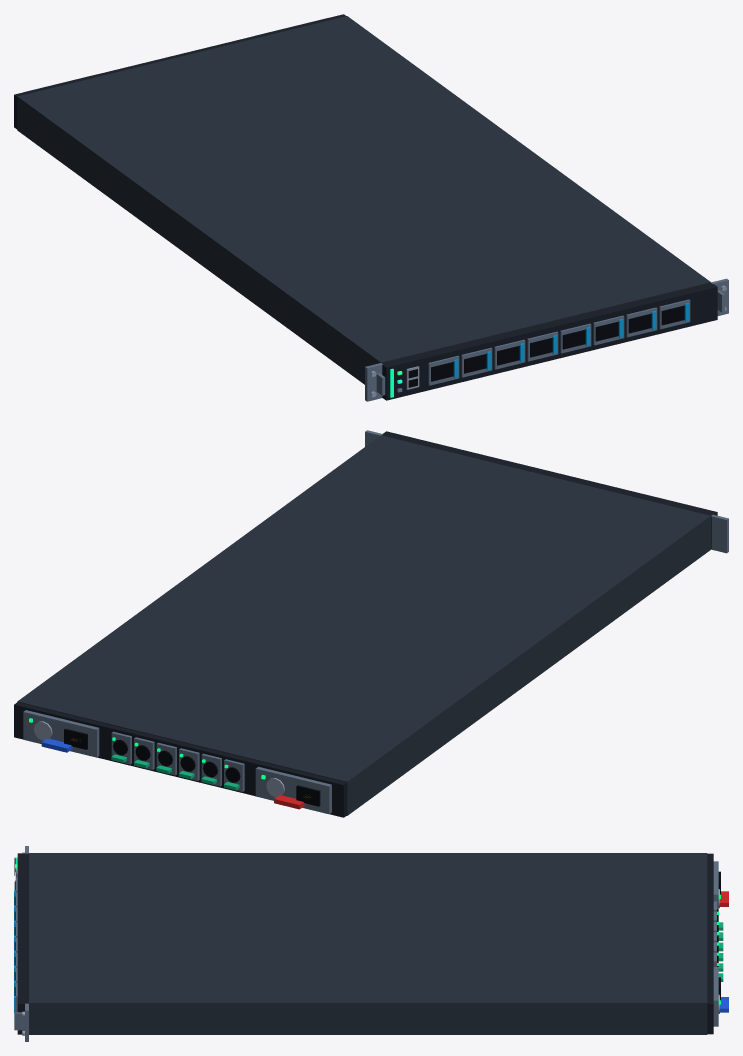
Rendered from generic_server_1u.glb.
3 renders of one model, top to bottom at view 1: azimuth 30°, elevation 25°; view 2: azimuth 150°, elevation 25°; view 3: azimuth 270°, elevation 25°, orthographic. The views are drawn at different scales.
Visible parts, largest first — view 1: BATCH_MAT_CHASSIS_BODY, BATCH_MAT_FACEPLATE, BATCH_MAT_RACK_EAR, BATCH_MAT_CAVITY_DARK, BATCH_MAT_NVME_LATCH; view 2: BATCH_MAT_CHASSIS_BODY, BATCH_MAT_FACEPLATE, BATCH_MAT_RACK_EAR, BATCH_MAT_CAVITY_DARK; view 3: BATCH_MAT_CHASSIS_BODY, BATCH_MAT_FACEPLATE, BATCH_MAT_RACK_EAR, BATCH_MAT_CAVITY_DARK.
Boxes of the visible parts, bbox=[...] form: BATCH_MAT_CHASSIS_BODY: bbox=[17, 16, 710, 384]; BATCH_MAT_FACEPLATE: bbox=[14, 14, 717, 400]; BATCH_MAT_RACK_EAR: bbox=[25, 17, 728, 401]; BATCH_MAT_CAVITY_DARK: bbox=[408, 305, 684, 387]; BATCH_MAT_NVME_LATCH: bbox=[453, 303, 689, 377]; BATCH_MAT_CHASSIS_BODY: bbox=[17, 435, 710, 815]; BATCH_MAT_FACEPLATE: bbox=[14, 431, 717, 817]; BATCH_MAT_RACK_EAR: bbox=[23, 430, 728, 814]; BATCH_MAT_CAVITY_DARK: bbox=[64, 728, 320, 806]; BATCH_MAT_CHASSIS_BODY: bbox=[29, 853, 707, 1034]; BATCH_MAT_FACEPLATE: bbox=[17, 853, 713, 1034]; BATCH_MAT_RACK_EAR: bbox=[14, 846, 718, 1041]; BATCH_MAT_CAVITY_DARK: bbox=[14, 871, 720, 1000].
Bounding box in the file's own units: 0.4826 × 0.0435 × 0.8855.
